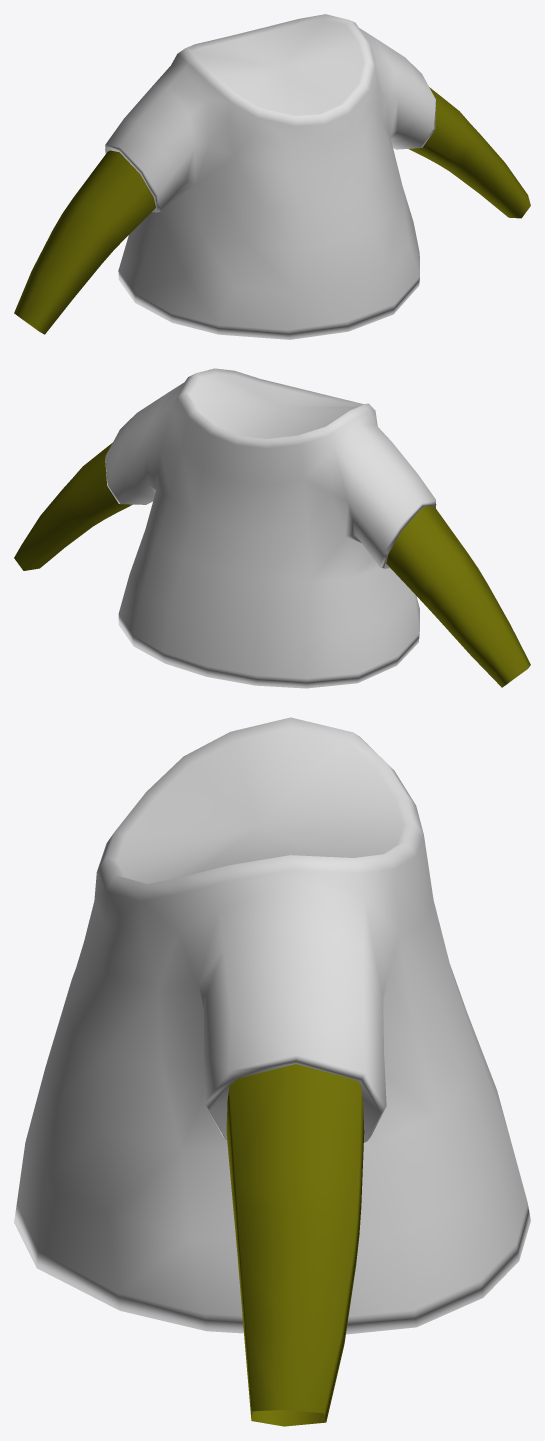
The model's file is rainbowTShirt_1LOD.fbx.
3 renders of one model, top to bottom at view 1: azimuth 30°, elevation 25°; view 2: azimuth 150°, elevation 25°; view 3: azimuth 270°, elevation 25°, orthographic. The views are drawn at different scales.
Parts seen in each view (by area): view 1: torso; view 2: torso; view 3: torso.
Part boxes in pixels (x1,y1,x2,y2): torso: (14, 14, 530, 339); torso: (14, 368, 530, 688); torso: (14, 717, 530, 1426).
Size of the model in its own units: 76.28 by 34.2 by 36.77.
